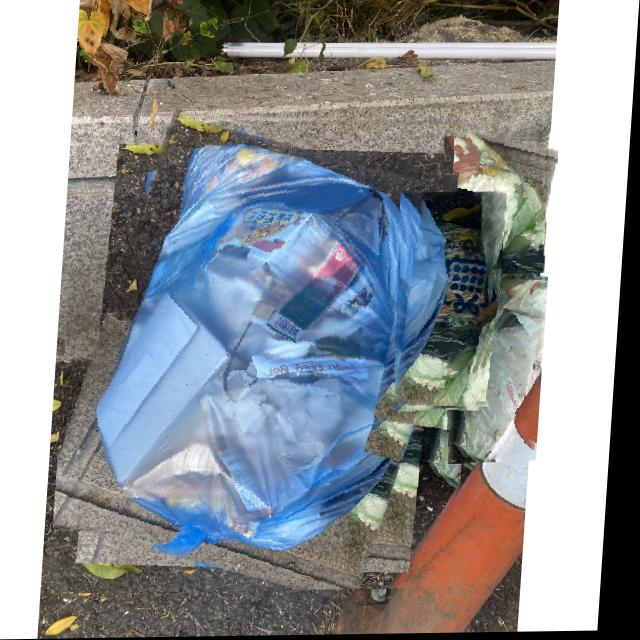general_trashbag: (399, 194, 509, 409), (453, 275, 552, 463), (444, 135, 560, 286)
other_trashbag: (61, 113, 494, 591)
